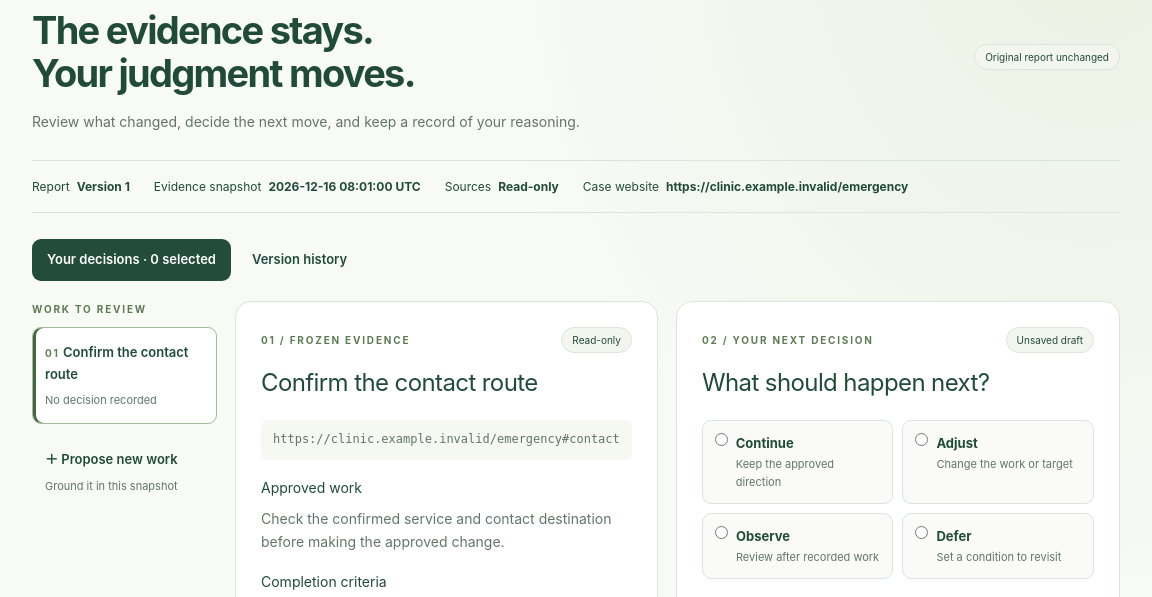
Test case: clears private text and evidence when save access is lost
The image size is (1152, 597).
expect the heading "What should happen next?" is shown: met, box x1=702 y1=368 x2=989 y2=397
Click the radio button labelled "Continue Keep the approved direction" at (721, 440), box x1=715 y1=433 x2=728 y2=446
(page scrolled)
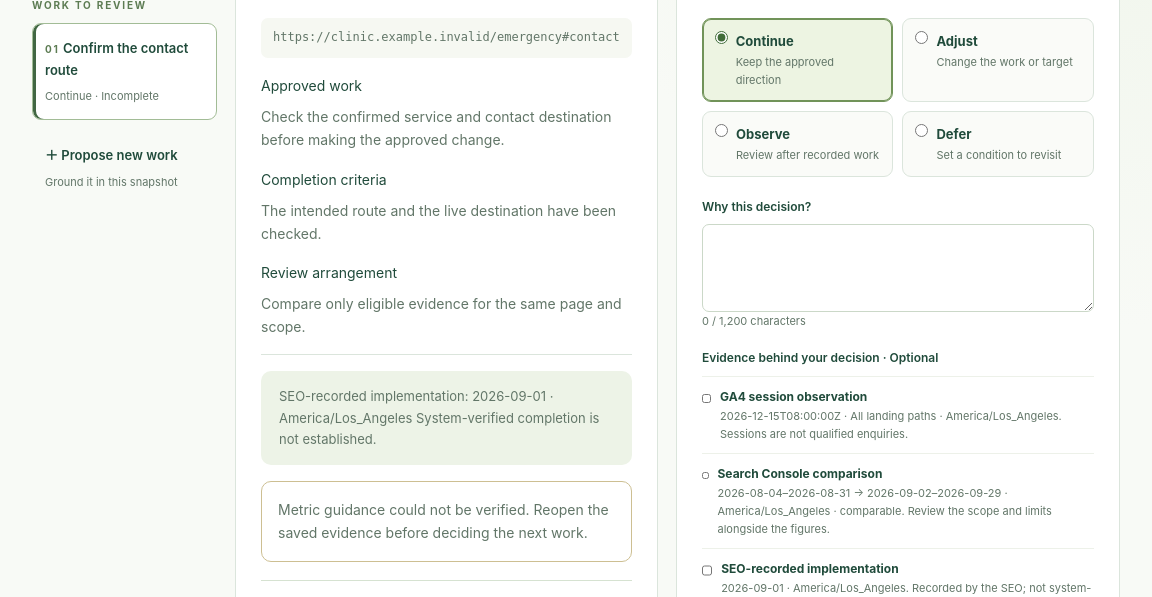
Type "Keep this direction while checking the contact path." into the text box labelled "Why this decision? 0 / 1,200 characters" at (898, 268), box x1=702 y1=224 x2=1094 y2=312
(page scrolled)
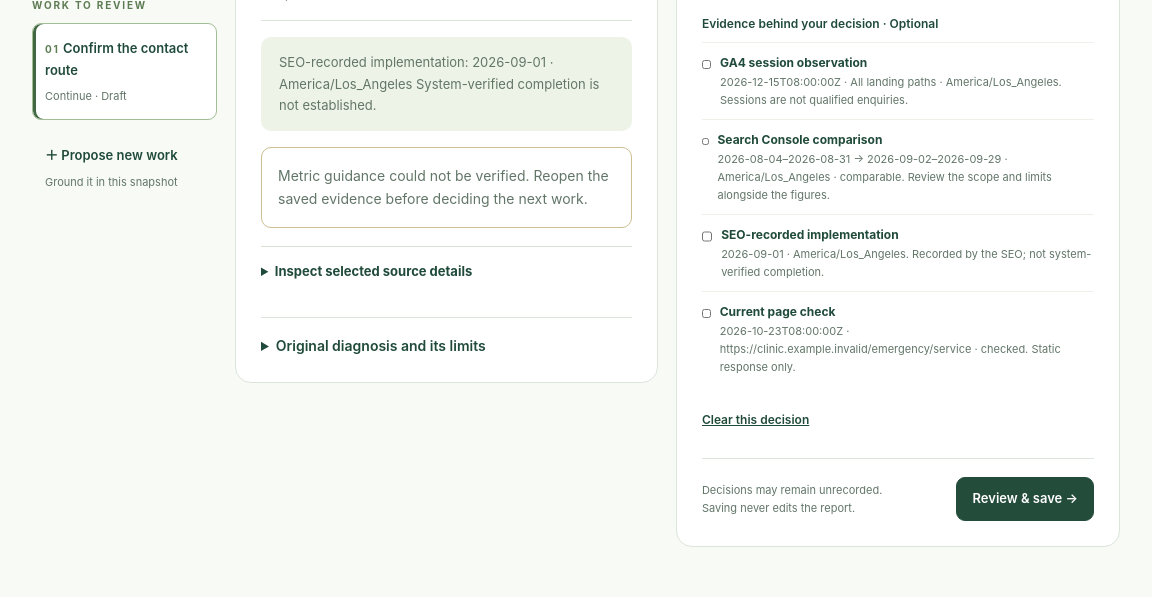
Click the button "Review & save →" at (1025, 499), box x1=956 y1=477 x2=1094 y2=521
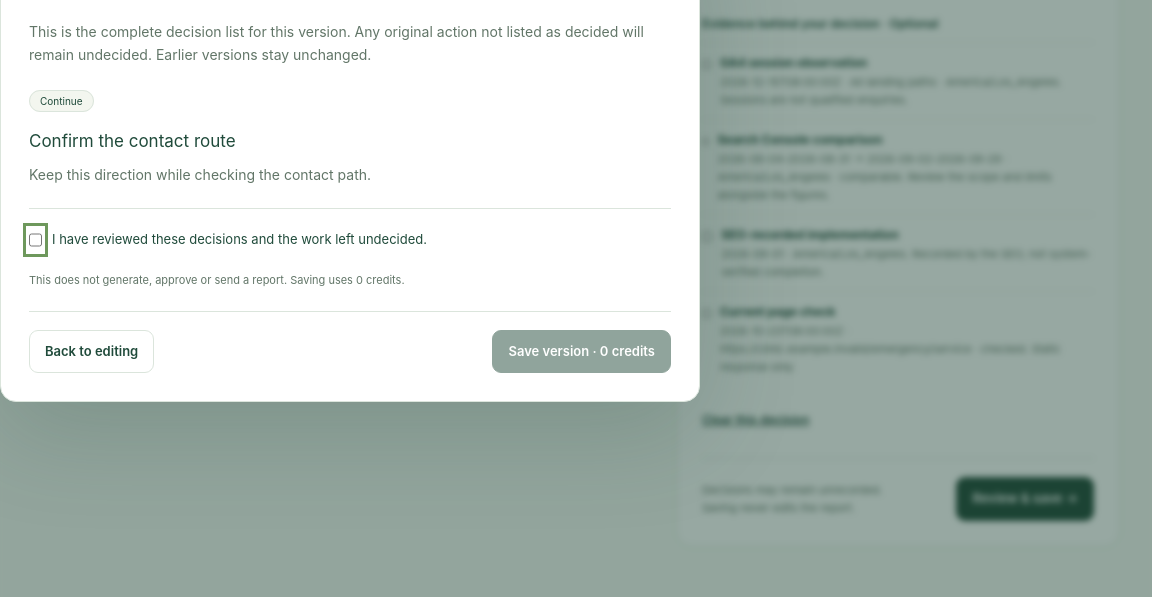
expect the button "Save version · 0 credits" is disabled: met, box x1=492 y1=330 x2=671 y2=373
Click the checkbox at (36, 240), box x1=29 y1=229 x2=42 y2=250
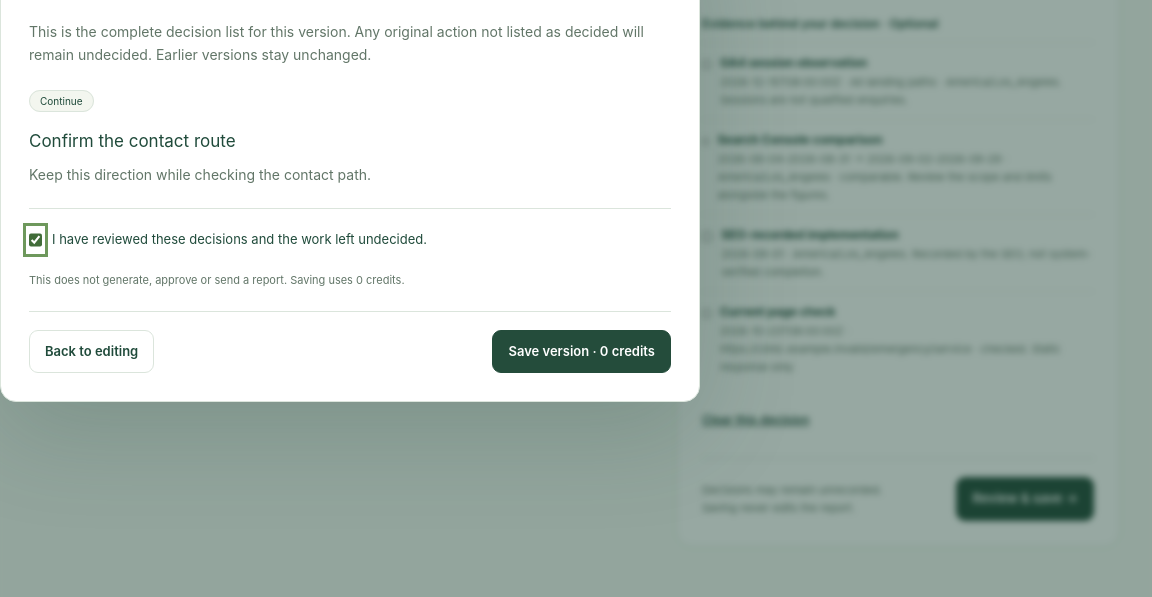
Click the button "Save version · 0 credits" at (582, 351), box x1=492 y1=330 x2=671 y2=373
(page scrolled)
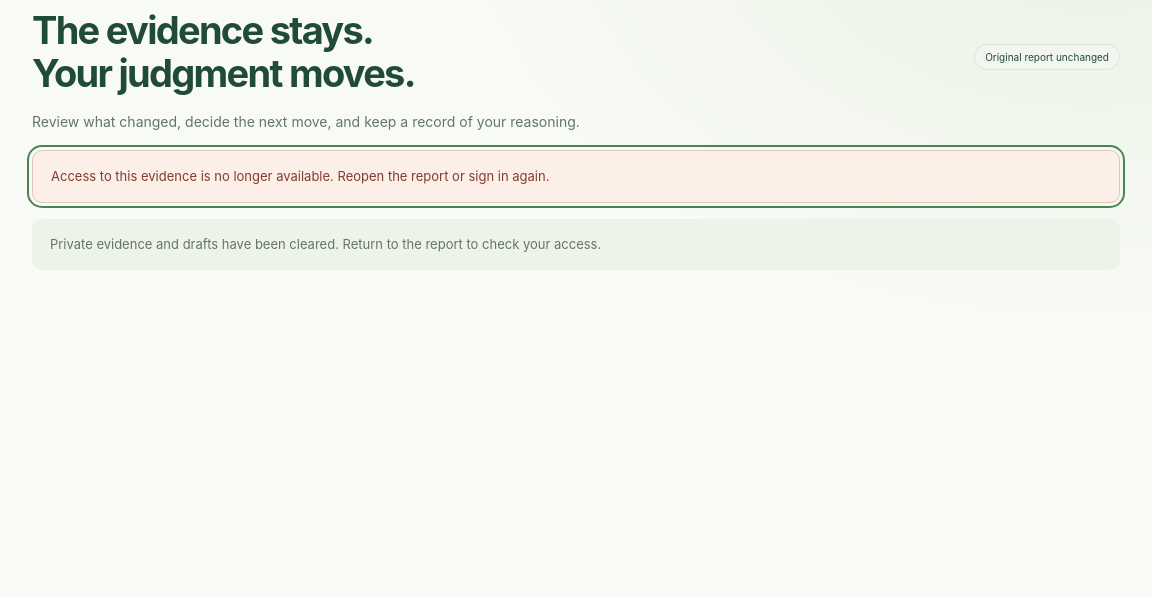
expect the text "Private evidence and drafts have been cleared" is shown: met, box x1=50 y1=236 x2=601 y2=252
